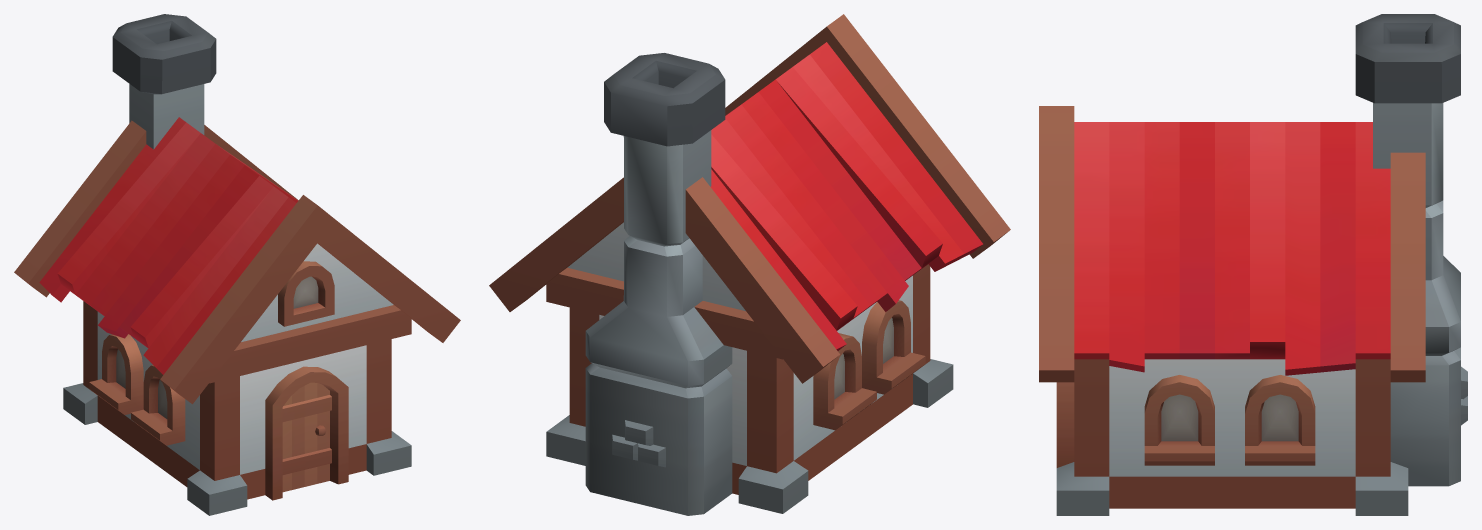
Rendered from k-home-a-kaykit.glb.
3 views of the same model, side by side, from view 1: azimuth 30°, elevation 25°; view 2: azimuth 150°, elevation 25°; view 3: azimuth 270°, elevation 25° (orthographic). The views are drawn at different scales.
Parts seen in each view (by area): view 1: building_home_A_red; view 2: building_home_A_red; view 3: building_home_A_red.
Part boxes in pixels (bbox=[...]): building_home_A_red: bbox=[14, 14, 460, 515]; building_home_A_red: bbox=[489, 14, 1010, 515]; building_home_A_red: bbox=[1039, 14, 1467, 515].
Bounding box in the file's own units: 0.7919 × 0.93 × 0.8537.
Materials: 1 (1 with a texture image).
